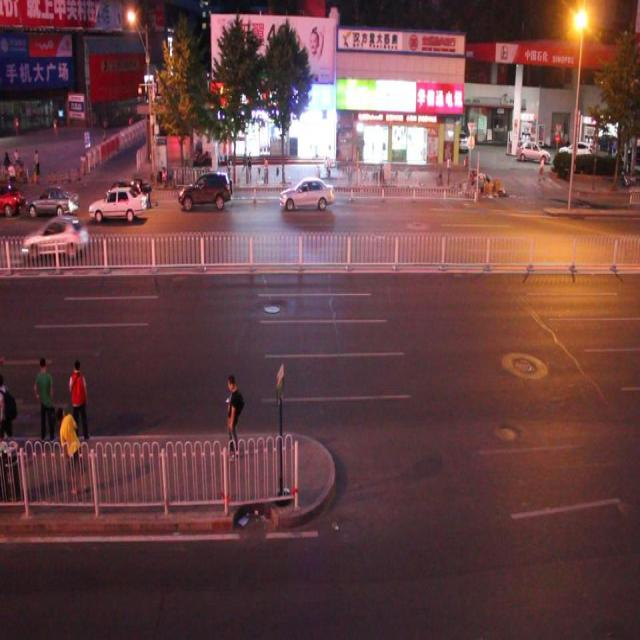car: (22, 211, 88, 264), (178, 170, 232, 213), (88, 186, 147, 225), (280, 173, 337, 213), (26, 183, 81, 220), (101, 180, 145, 223)
